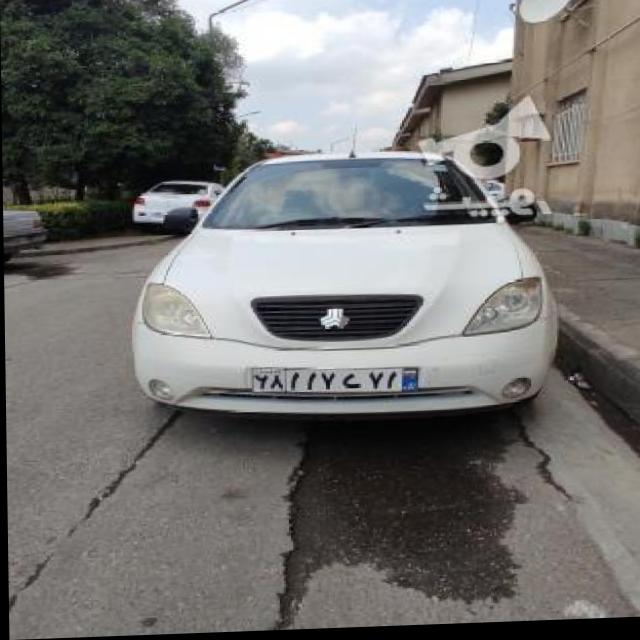licence: (244, 368, 421, 398)
